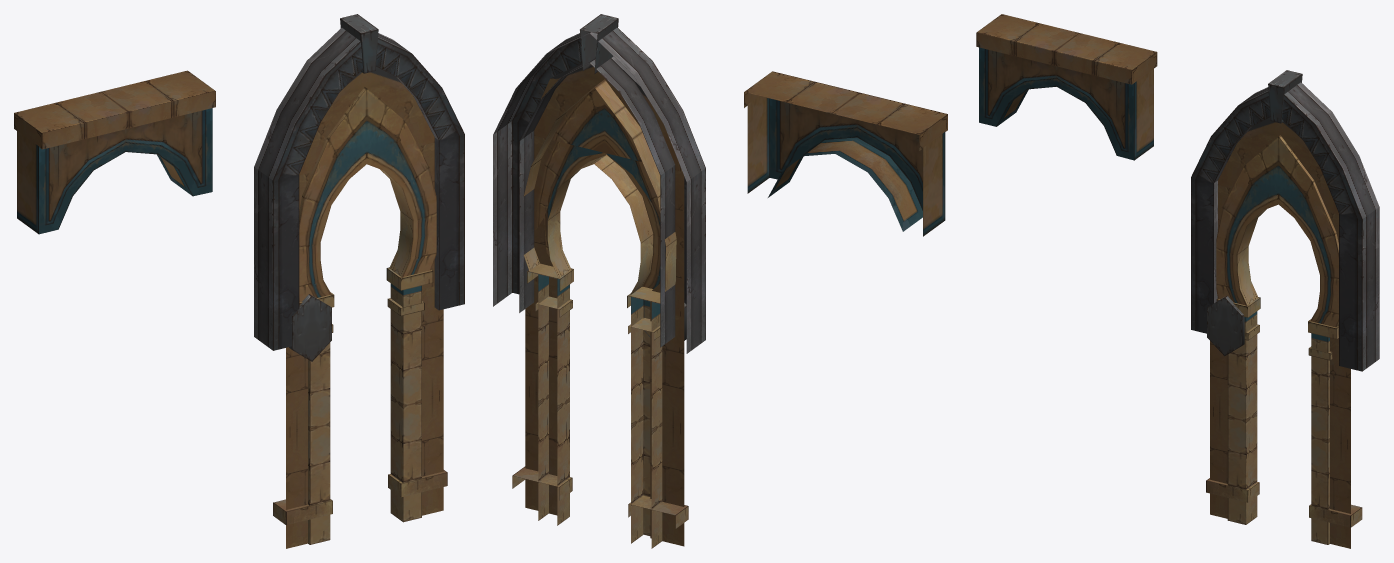
Rendered from 2_DG_GaoDaMen_01.FBX.
3 views of the same model, side by side, from view 1: azimuth 30°, elevation 25°; view 2: azimuth 150°, elevation 25°; view 3: azimuth 330°, elevation 25° (orthographic). The views are drawn at different scales.
Parts seen in each view (by area): view 1: 2_DG_GaoDaMen_01, 2_DG_GaoDaMen_04, 2_DG_GaoDaMen_06, 2_DG_GaoDaMen_02, 2_DG_GaoDaMen_05, 2_DG_GaoDaMen_03; view 2: 2_DG_GaoDaMen_01, 2_DG_GaoDaMen_04, 2_DG_GaoDaMen_06, 2_DG_GaoDaMen_02, 2_DG_GaoDaMen_03; view 3: 2_DG_GaoDaMen_01, 2_DG_GaoDaMen_04, 2_DG_GaoDaMen_06, 2_DG_GaoDaMen_02, 2_DG_GaoDaMen_05, 2_DG_GaoDaMen_03.
Part boxes in pixels (bbox=[...]): 2_DG_GaoDaMen_01: bbox=[286, 66, 443, 432]; 2_DG_GaoDaMen_04: bbox=[254, 14, 464, 350]; 2_DG_GaoDaMen_06: bbox=[14, 70, 215, 234]; 2_DG_GaoDaMen_02: bbox=[286, 394, 443, 548]; 2_DG_GaoDaMen_05: bbox=[289, 294, 331, 361]; 2_DG_GaoDaMen_03: bbox=[273, 470, 447, 525]; 2_DG_GaoDaMen_01: bbox=[523, 58, 684, 431]; 2_DG_GaoDaMen_04: bbox=[493, 14, 705, 353]; 2_DG_GaoDaMen_06: bbox=[744, 71, 947, 236]; 2_DG_GaoDaMen_02: bbox=[525, 390, 684, 548]; 2_DG_GaoDaMen_03: bbox=[512, 466, 688, 528]; 2_DG_GaoDaMen_01: bbox=[1210, 117, 1350, 444]; 2_DG_GaoDaMen_04: bbox=[1191, 70, 1379, 371]; 2_DG_GaoDaMen_06: bbox=[976, 14, 1157, 160]; 2_DG_GaoDaMen_02: bbox=[1210, 411, 1350, 548]; 2_DG_GaoDaMen_05: bbox=[1207, 295, 1244, 356]; 2_DG_GaoDaMen_03: bbox=[1206, 478, 1362, 527].
Bounding box in the file's own units: 1450 × 1629 × 166.
Materials: 1 (1 with a texture image).
